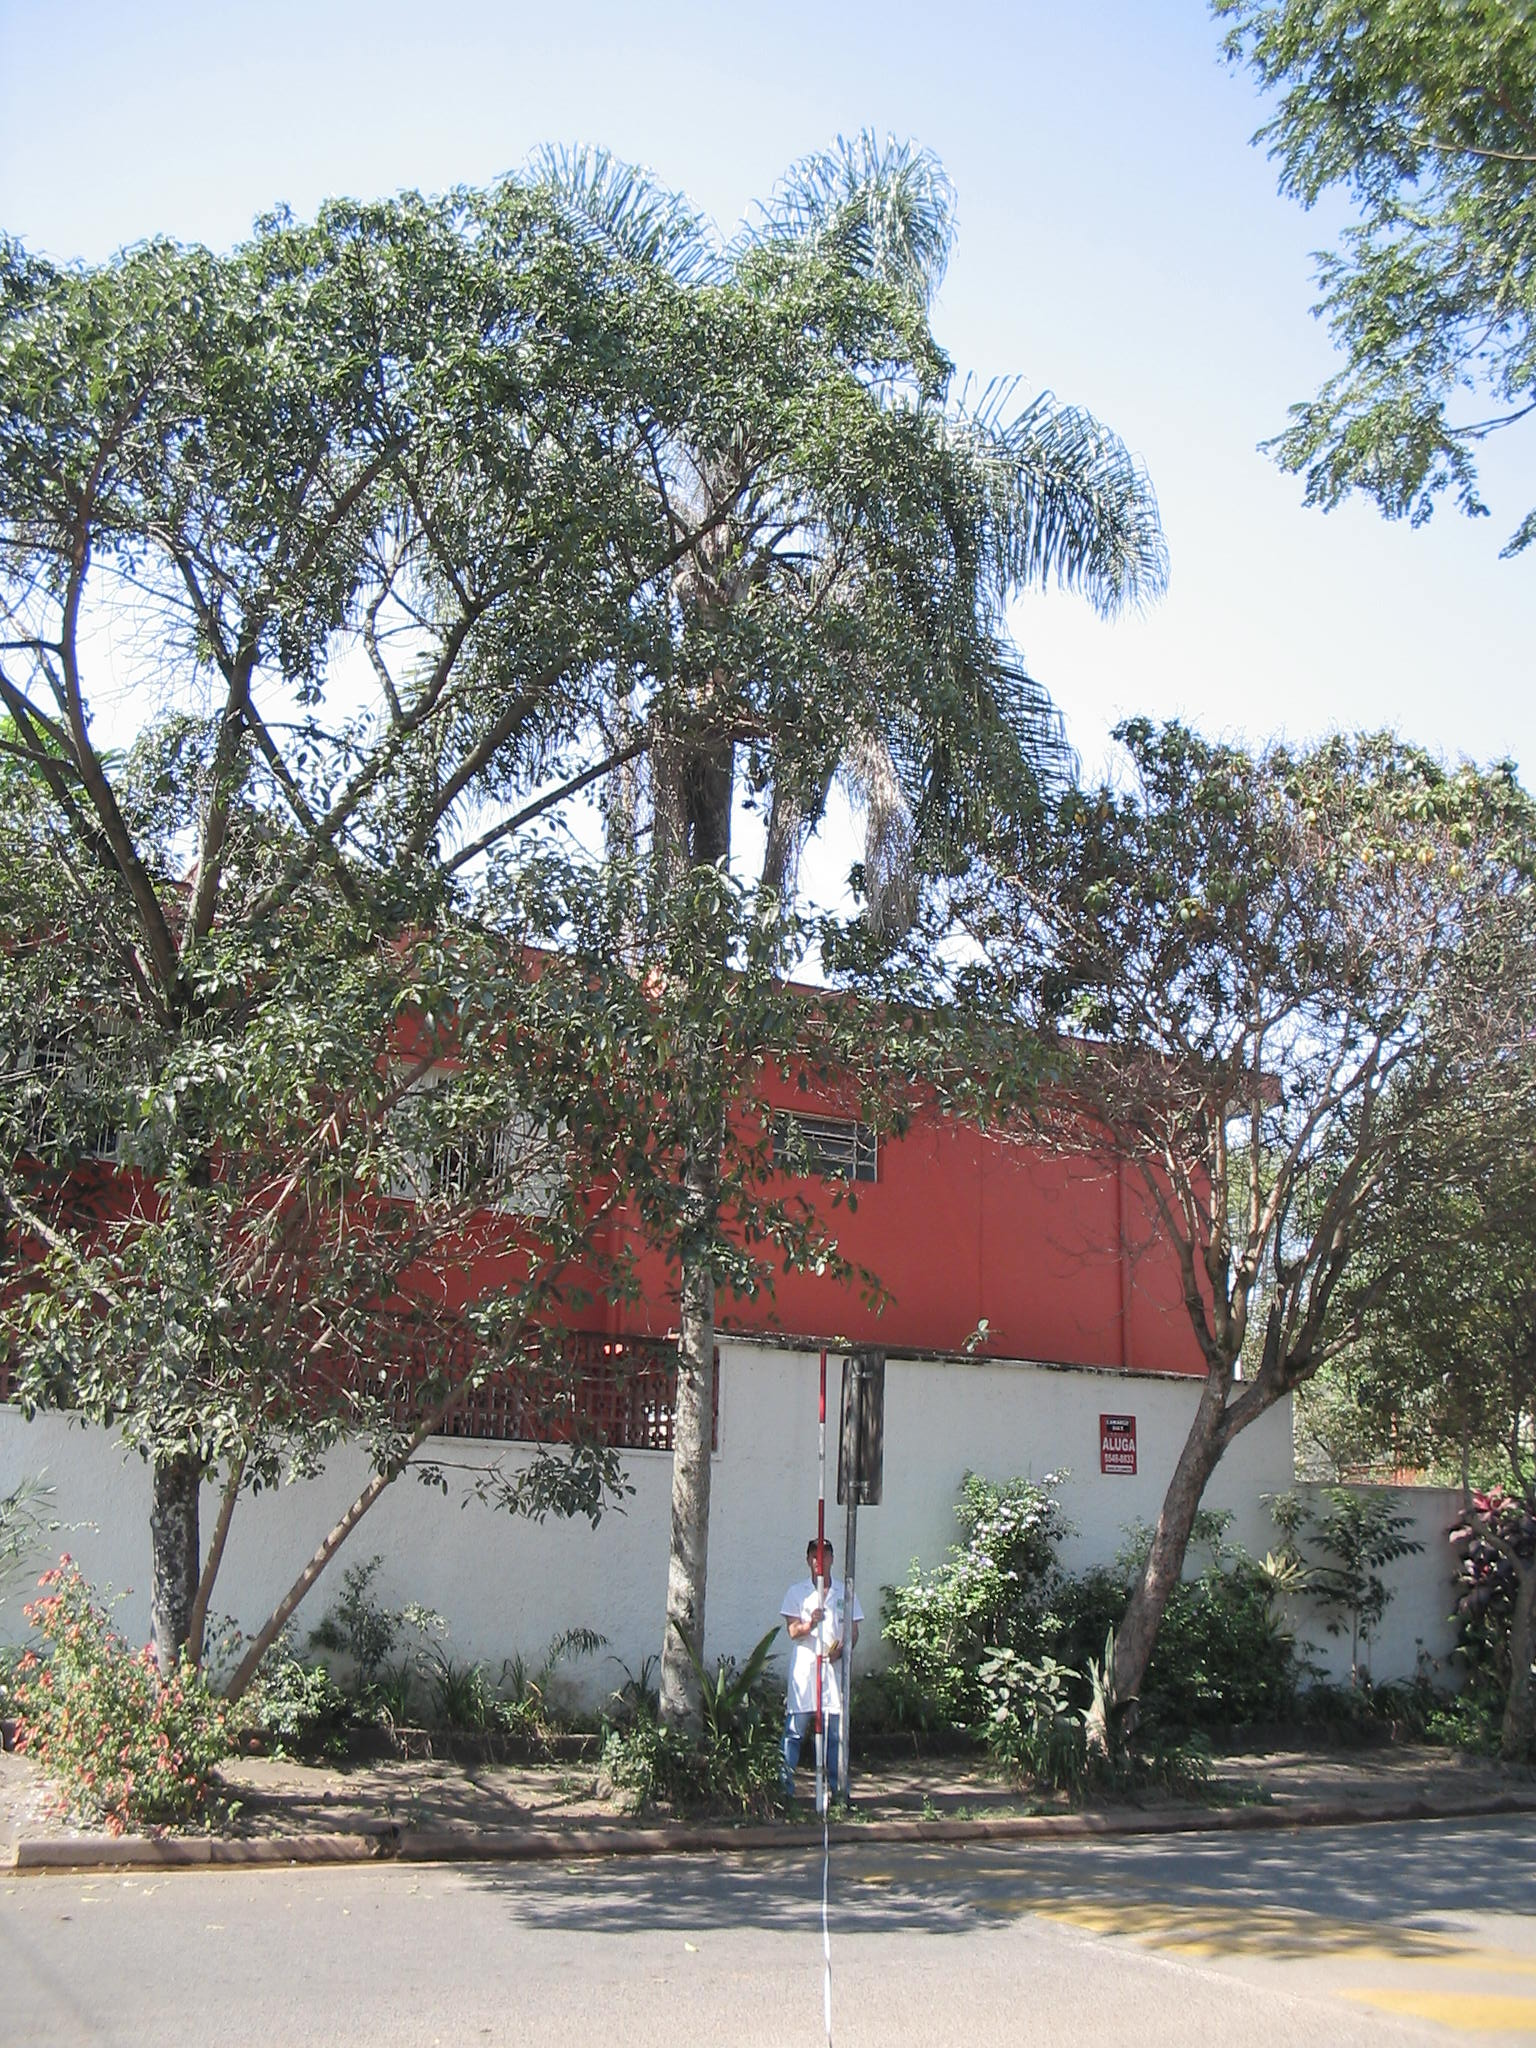crown: (15, 176, 995, 1474), (913, 721, 1534, 1461)
stem: (1066, 1447, 1221, 1767), (102, 1405, 224, 1792)
stick: (786, 1347, 841, 1813)
tree: (8, 176, 1000, 1796), (907, 716, 1533, 1766)
